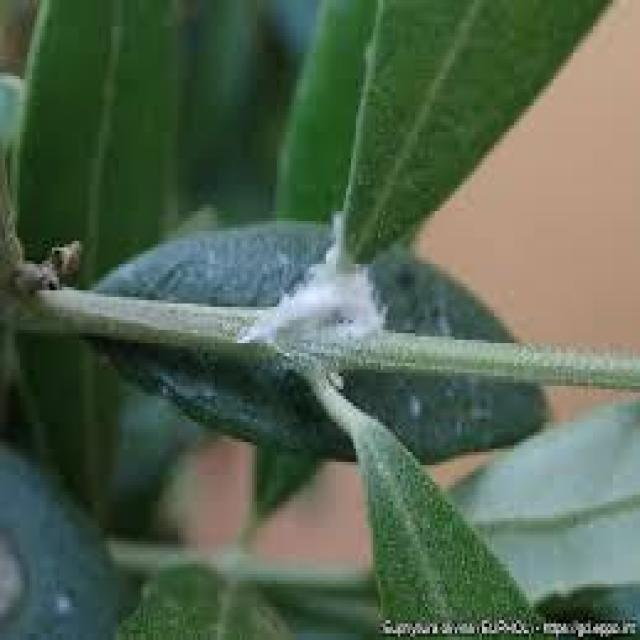Psyllid: (242, 211, 413, 346)
